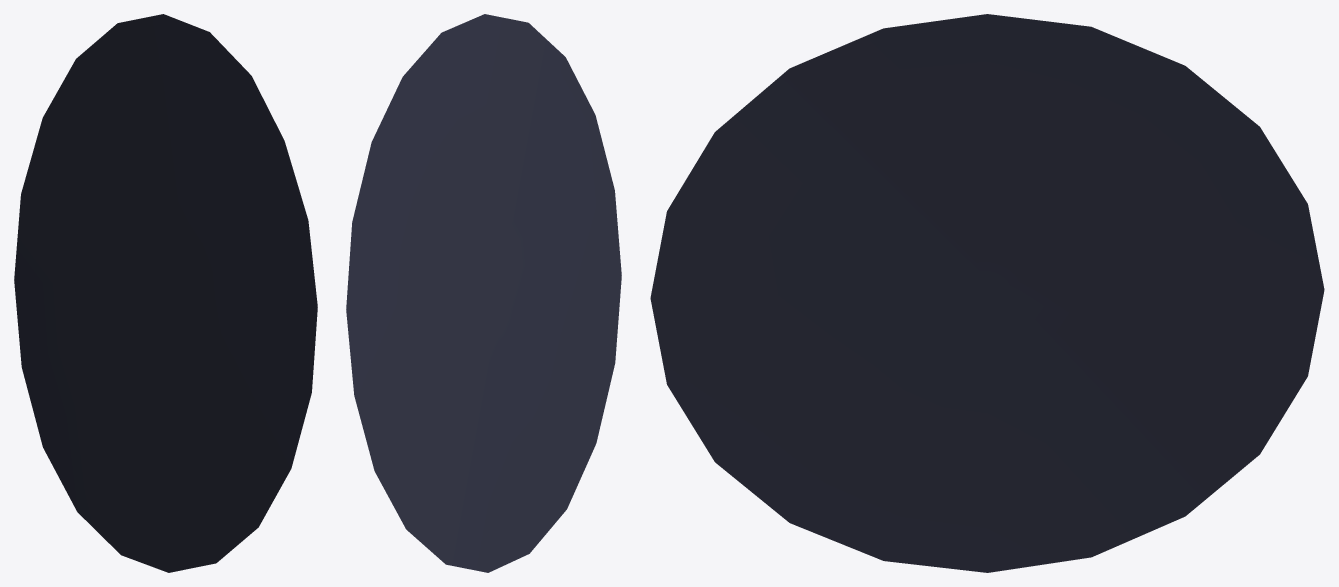
Rendered from fuel_cap.fbx.
3 renders of one model, left to right at view 1: azimuth 30°, elevation 25°; view 2: azimuth 150°, elevation 25°; view 3: azimuth 270°, elevation 25°, orthographic. The views are drawn at different scales.
Visible parts, largest first — view 1: cc1.012; view 2: cc1.012; view 3: cc1.012.
Part boxes in pixels (x1,y1,x2,y2): cc1.012: (14, 14, 317, 572); cc1.012: (346, 14, 621, 572); cc1.012: (650, 14, 1324, 572).
Size of the model in its own units: 3.42 by 18.25 by 18.23.
